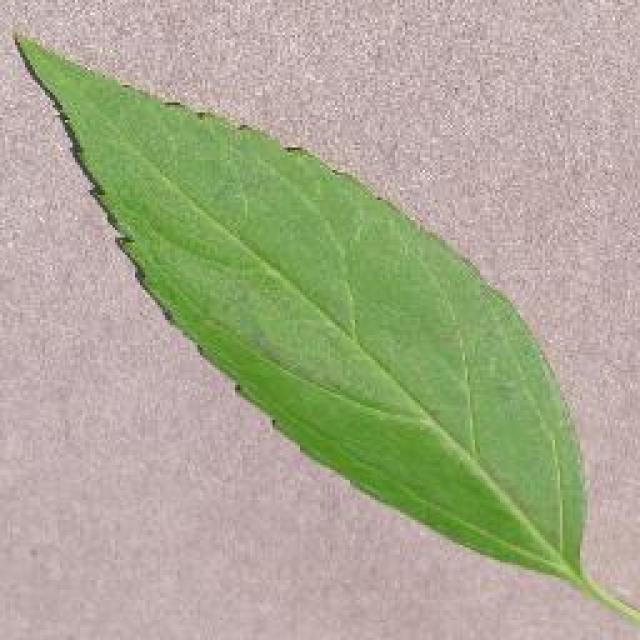Cherry___healthy: (8, 20, 630, 635)
